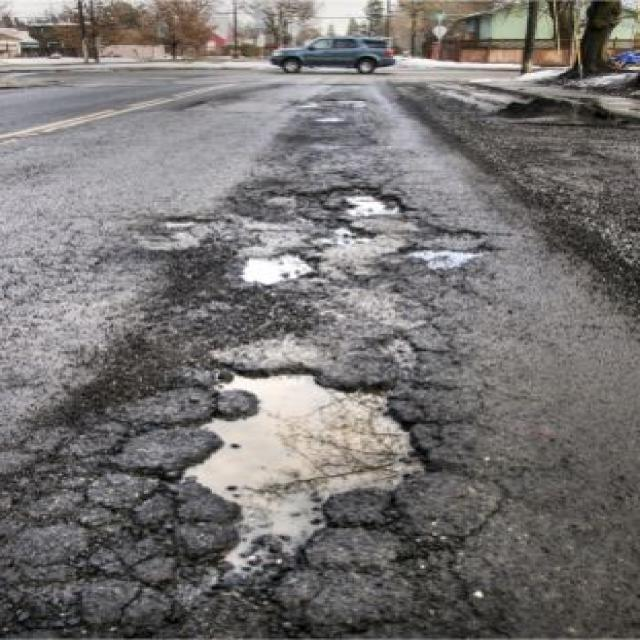Pothole: (134, 361, 447, 586), (402, 222, 509, 267), (327, 177, 418, 221), (241, 246, 326, 286)
